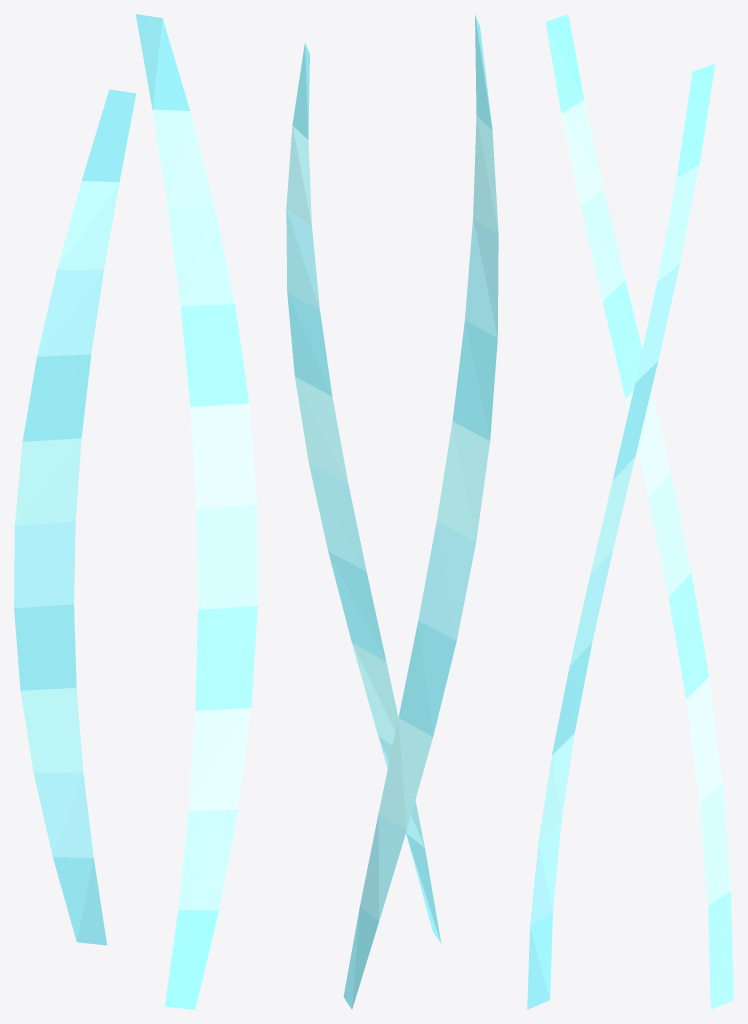
The model's file is curling-wind-ribbon.glb.
The picture shows the model from 3 angles, left to right: view 1: azimuth 30°, elevation 25°; view 2: azimuth 150°, elevation 25°; view 3: azimuth 270°, elevation 25°; orthographic projection. The views are drawn at different scales.
Parts seen in each view (by area): view 1: curling-wind-ribbon; view 2: curling-wind-ribbon; view 3: curling-wind-ribbon.
Boxes of the visible parts, x1,y1,x2,y2 form: curling-wind-ribbon: (14,14,257,1009); curling-wind-ribbon: (286,14,498,1009); curling-wind-ribbon: (527,14,733,1009).
Size of the model in its own units: 0.8802 by 3.7 by 0.72.
1 material, 1 textured.
